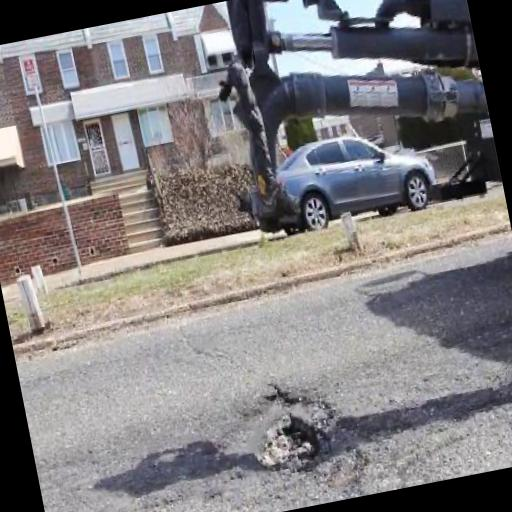pothole: (234, 374, 350, 486)
